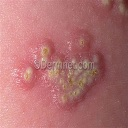Herpes Virus: (30, 35, 102, 99)
